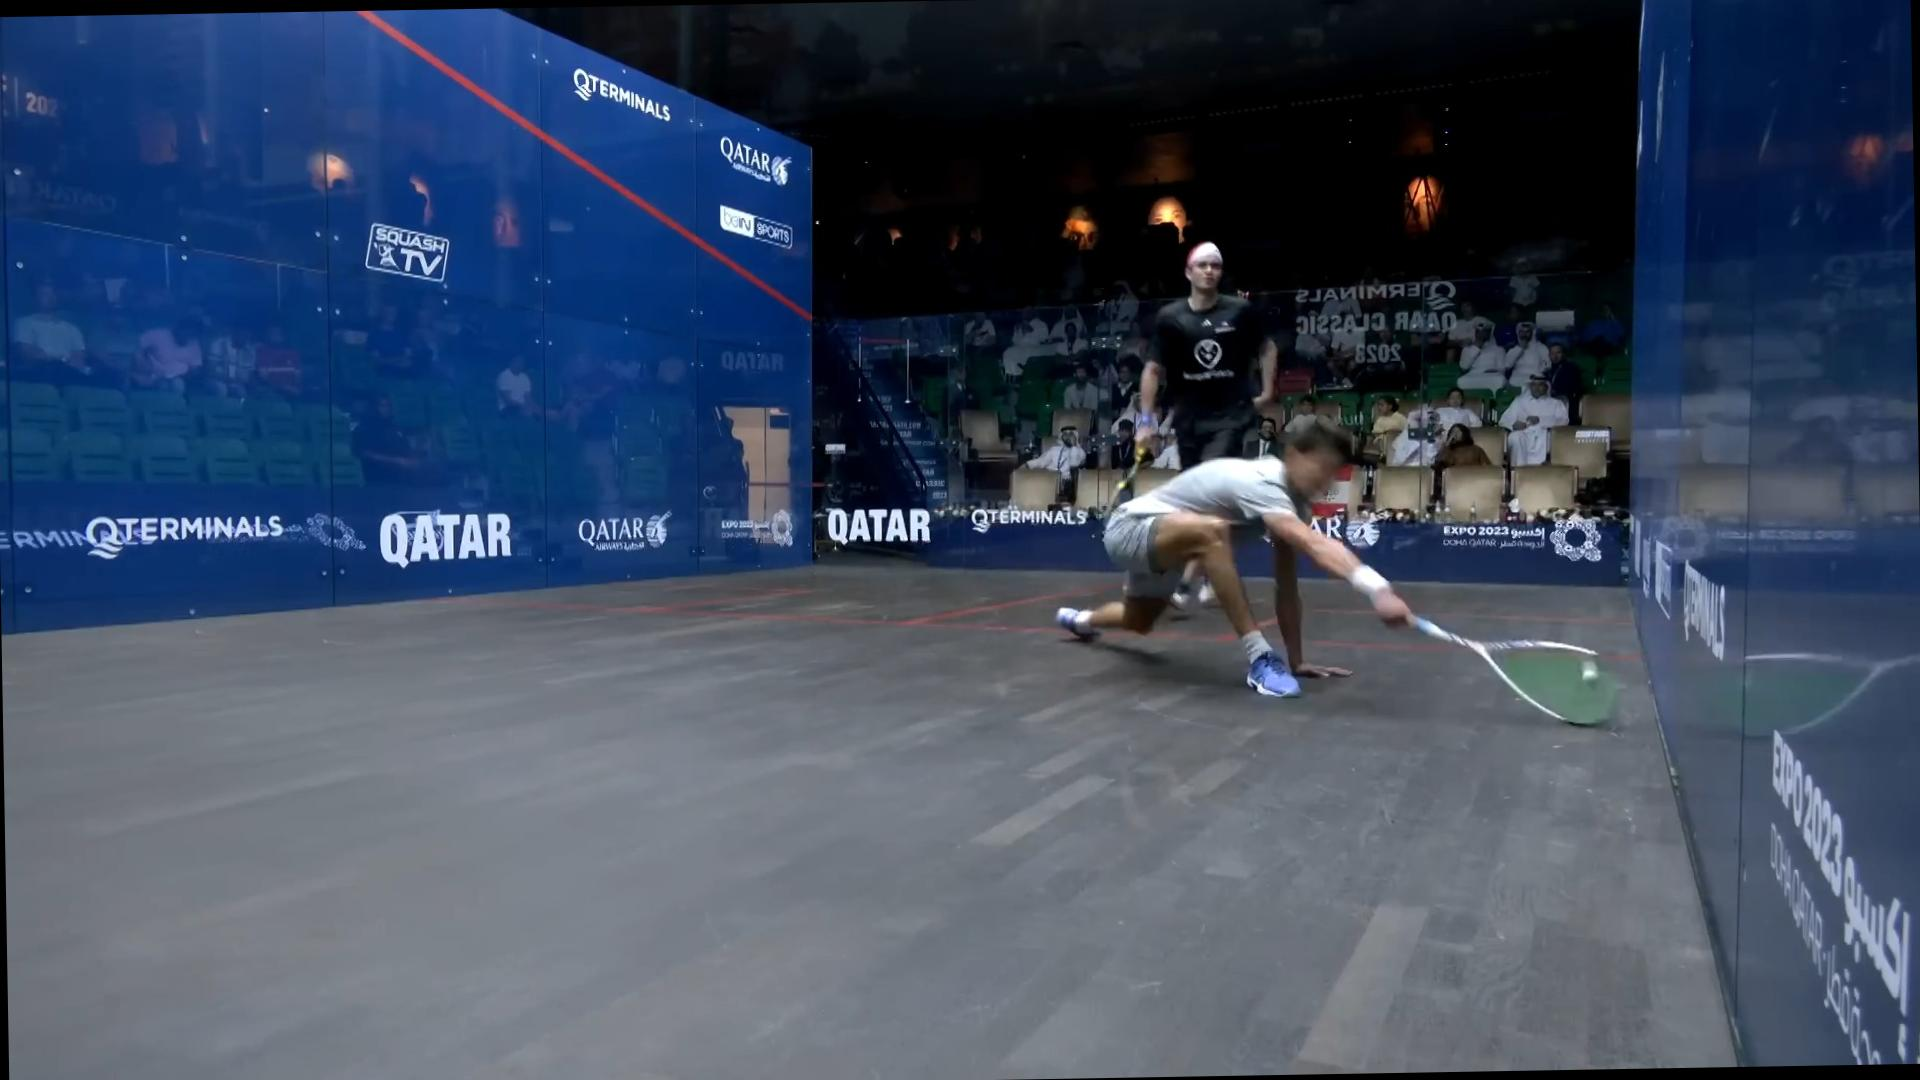Racket: (1411, 601, 1623, 737)
